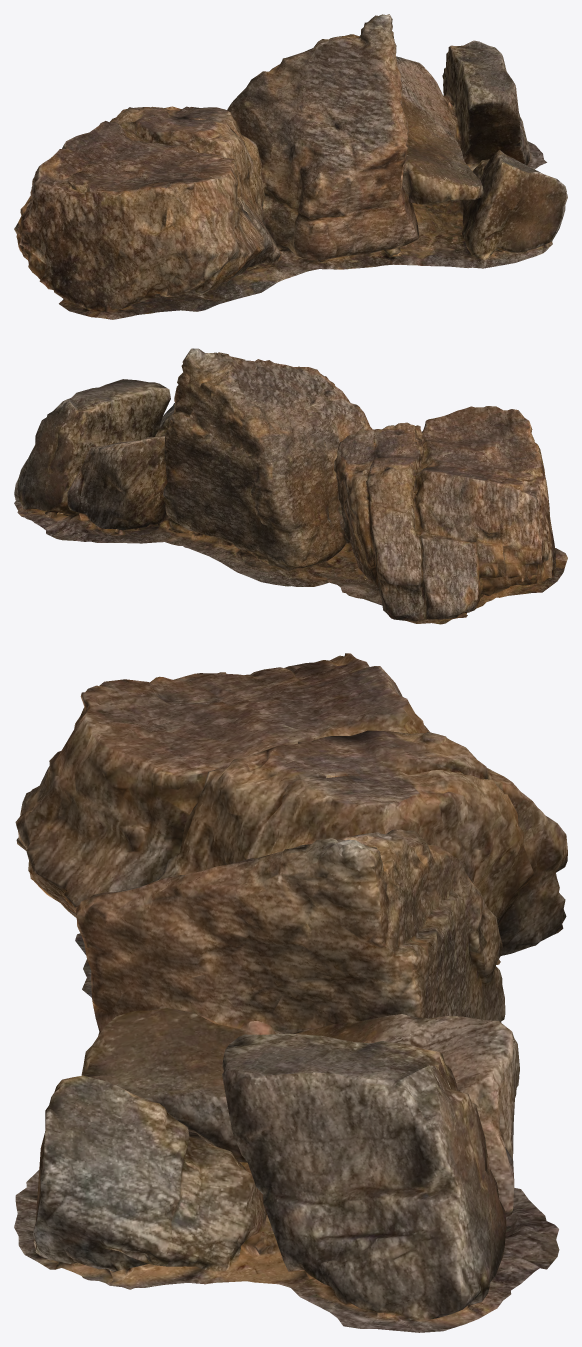
The model's file is namaqualand_boulder_02.glb.
3 views of the same model, one above another, from view 1: azimuth 30°, elevation 25°; view 2: azimuth 150°, elevation 25°; view 3: azimuth 270°, elevation 25° (orthographic). The views are drawn at different scales.
Parts seen in each view (by area): view 1: boulder_02; view 2: boulder_02; view 3: boulder_02.
Boxes of the visible parts, x1=… form: boulder_02: x1=14, y1=14, x2=567, y2=319; boulder_02: x1=14, y1=348, x2=567, y2=624; boulder_02: x1=14, y1=653, x2=567, y2=1332.
Bounding box in the file's own units: 2.53 × 0.8826 × 1.23.
Materials: 1 (1 with a texture image).
